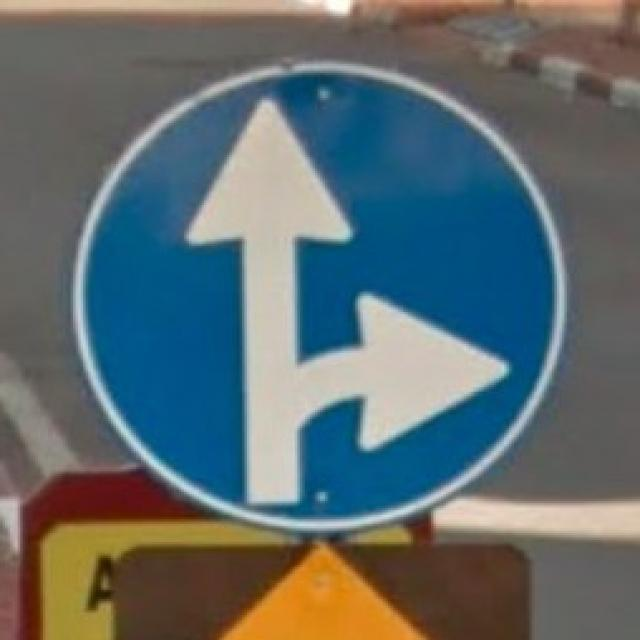Straight or Right: (94, 64, 558, 524)
